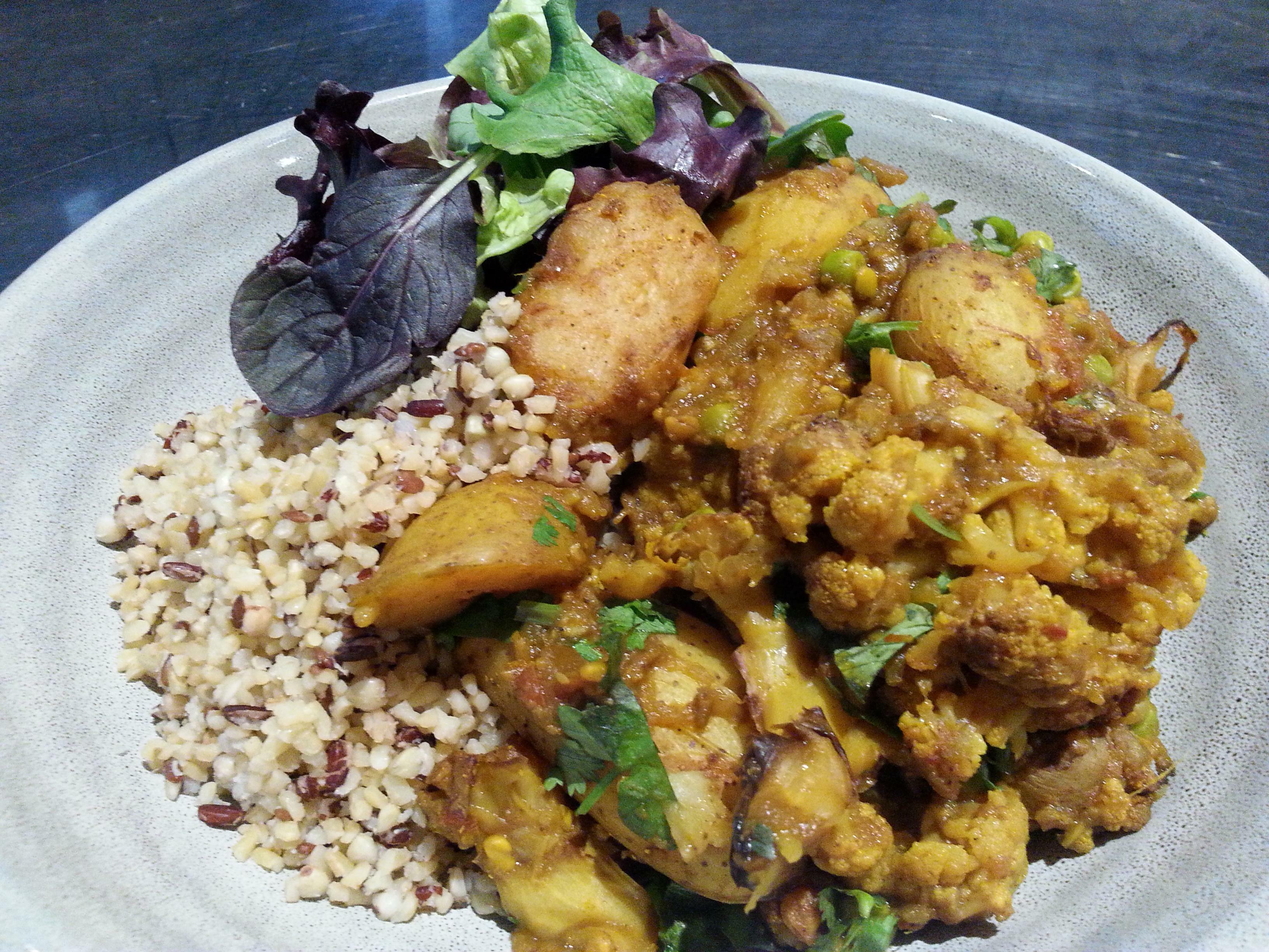AlooGobi: (351, 160, 1218, 952)
